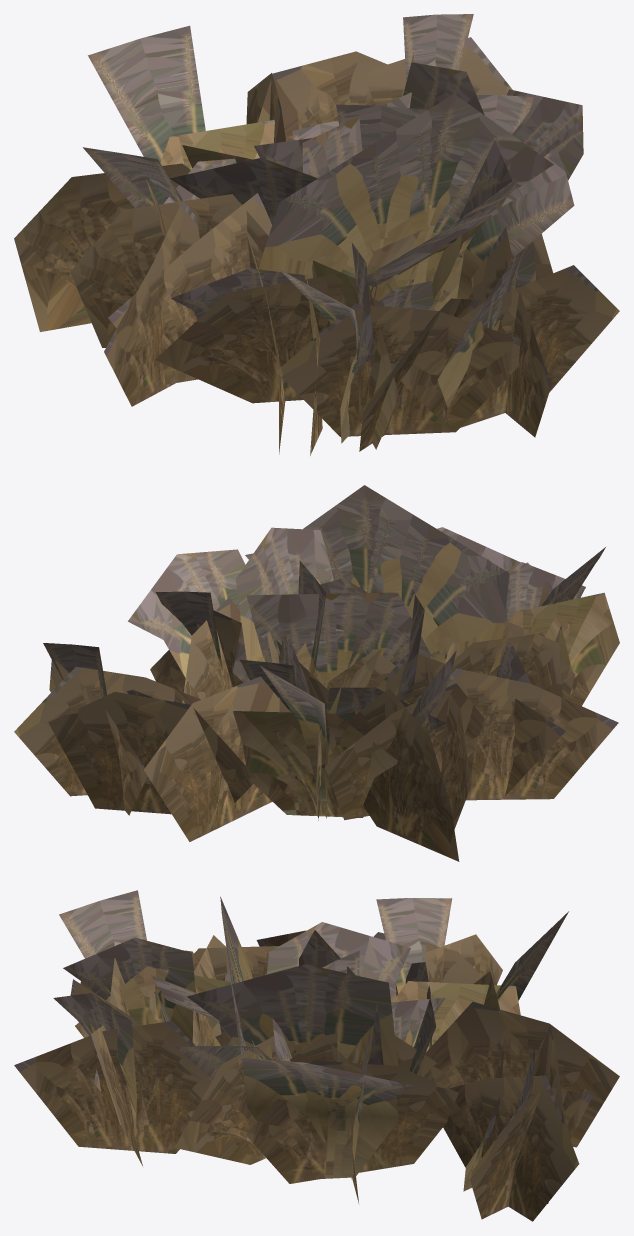
Rendered from SM_Wheat_02a.fbx.
The picture shows the model from 3 angles, top to bottom: view 1: azimuth 30°, elevation 25°; view 2: azimuth 150°, elevation 25°; view 3: azimuth 270°, elevation 25°; orthographic projection. The views are drawn at different scales.
Parts seen in each view (by area): view 1: SM_Wheat_02a_LOD0; view 2: SM_Wheat_02a_LOD0; view 3: SM_Wheat_02a_LOD0.
Part boxes in pixels (box(x1,y1,x2,y2)): SM_Wheat_02a_LOD0: box(14, 14, 619, 455); SM_Wheat_02a_LOD0: box(14, 485, 619, 861); SM_Wheat_02a_LOD0: box(14, 890, 619, 1221).
Bounding box in the file's own units: 152 × 168 × 75.04.
